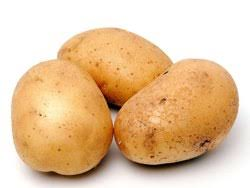potato: (117, 61, 232, 161), (12, 57, 104, 167)
